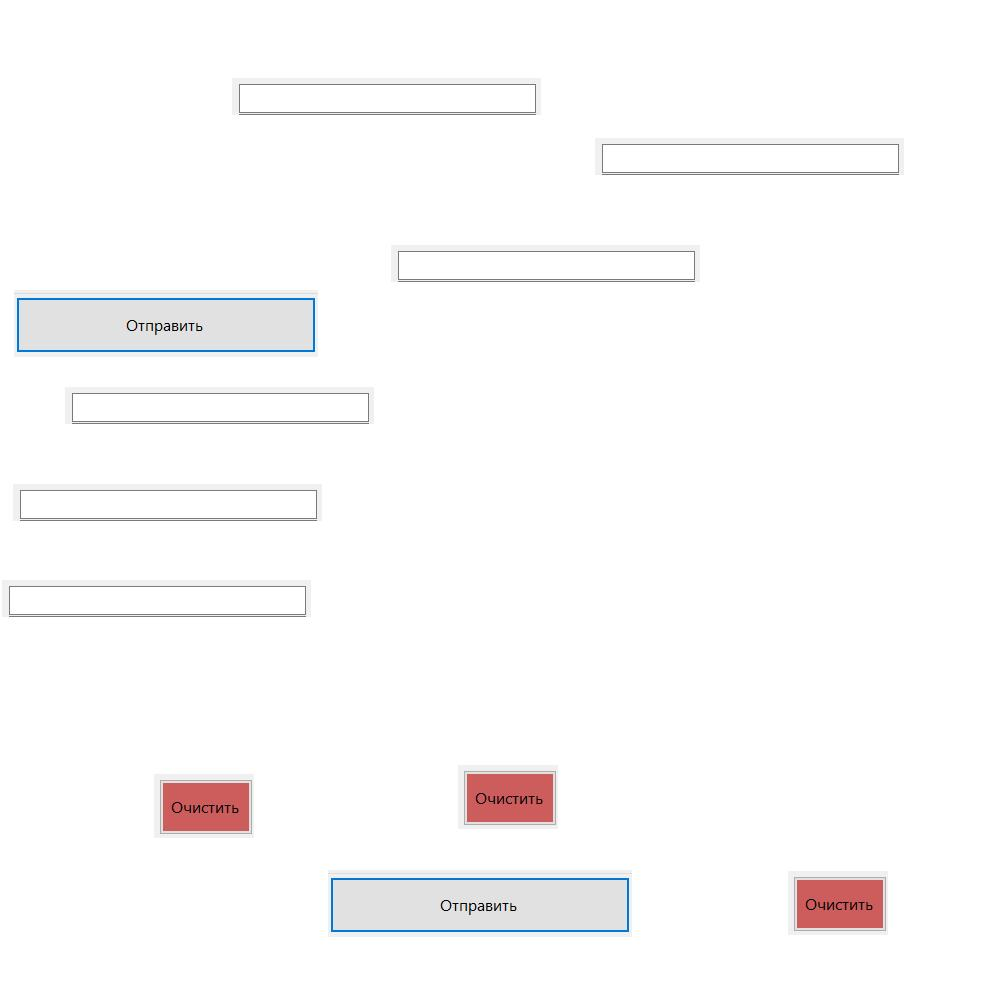Button: (328, 870, 632, 937), (14, 290, 318, 357), (154, 774, 254, 838), (788, 871, 888, 935), (458, 765, 558, 829)
EditText-: (595, 138, 904, 175), (2, 580, 311, 617), (232, 78, 541, 115), (391, 245, 700, 282), (65, 387, 374, 424), (13, 484, 322, 521)
